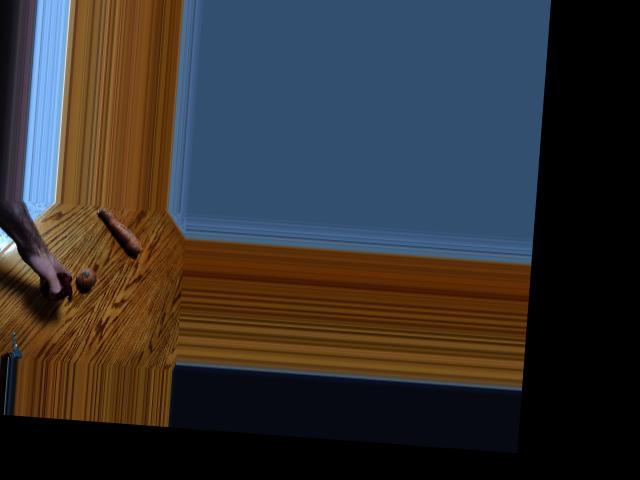onion: (42, 269, 73, 299)
